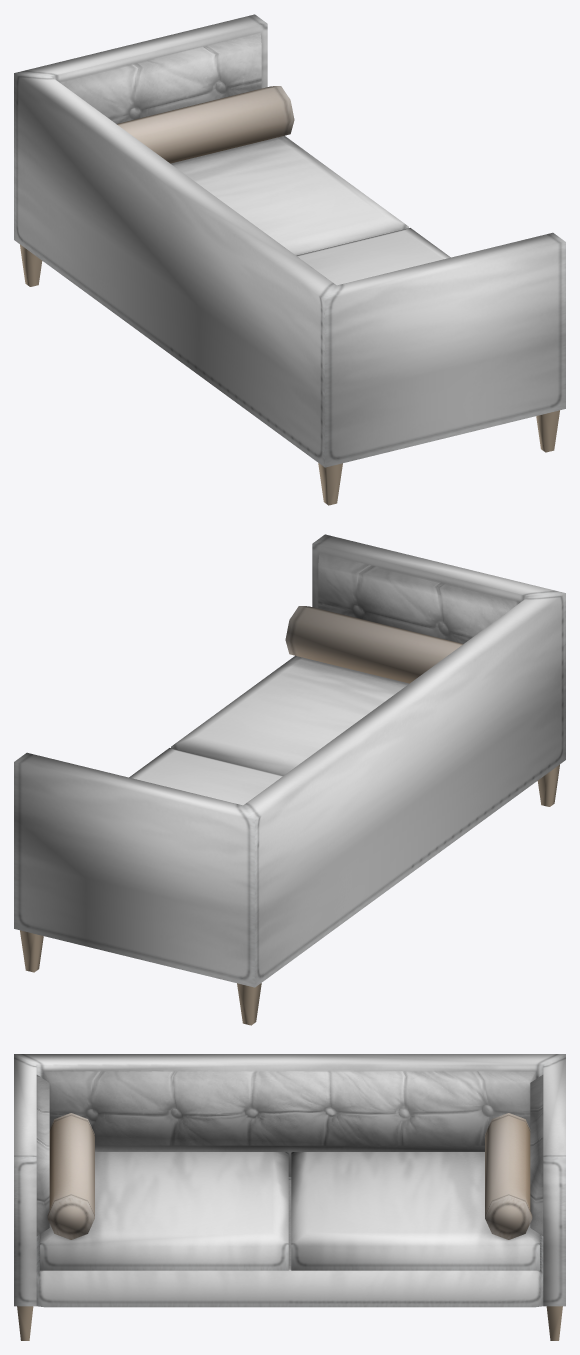
The model's file is source.glb.
3 renders of one model, top to bottom at view 1: azimuth 30°, elevation 25°; view 2: azimuth 150°, elevation 25°; view 3: azimuth 270°, elevation 25°, orthographic. The views are drawn at different scales.
Parts seen in each view (by area): view 1: Three-seaterSofa02; view 2: Three-seaterSofa02; view 3: Three-seaterSofa02.
Boxes of the visible parts, x1,y1,x2,y2 form: Three-seaterSofa02: [14, 14, 565, 505]; Three-seaterSofa02: [14, 534, 565, 1025]; Three-seaterSofa02: [14, 1054, 565, 1340].
Size of the model in its own units: 0.6995 by 0.581 by 1.56.
Materials: 1 (1 with a texture image).
